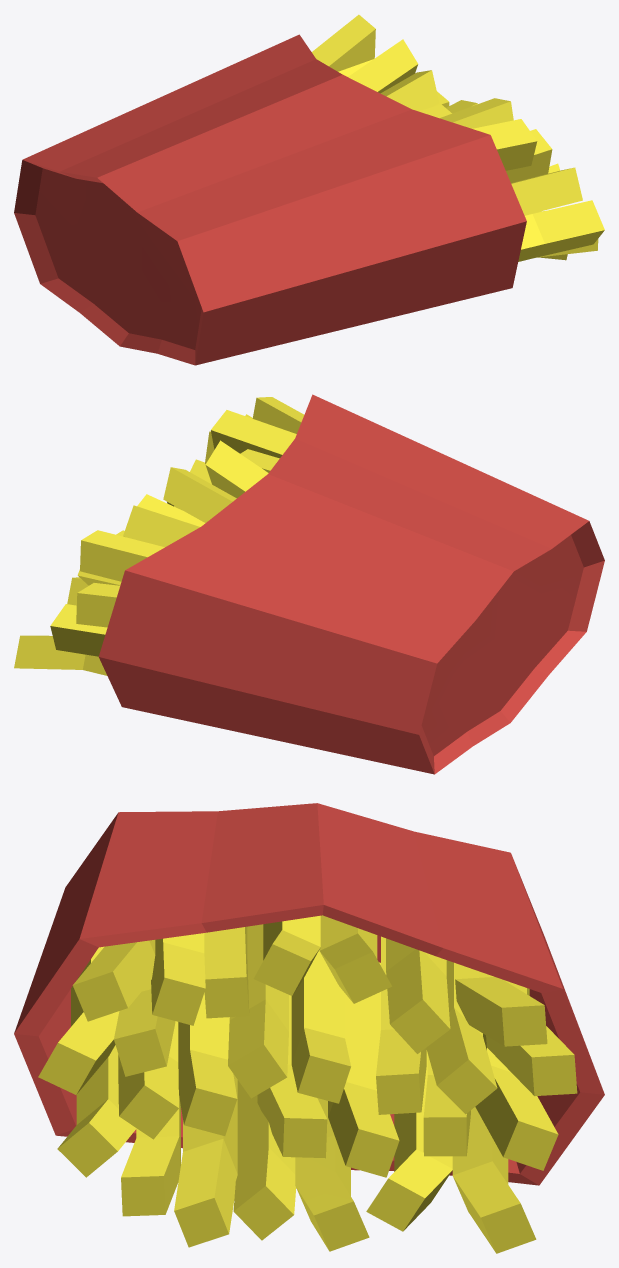
File: French_fries_01.fbx
The picture shows the model from 3 angles, top to bottom: view 1: azimuth 30°, elevation 25°; view 2: azimuth 150°, elevation 25°; view 3: azimuth 270°, elevation 25°; orthographic projection. The views are drawn at different scales.
Parts seen in each view (by area): view 1: French_fries_01; view 2: French_fries_01; view 3: French_fries_01.
Boxes of the visible parts, x1=… form: French_fries_01: x1=14, y1=14, x2=604, y2=365; French_fries_01: x1=14, y1=394, x2=604, y2=774; French_fries_01: x1=14, y1=803, x2=604, y2=1253.
Bounding box in the file's own units: 15.96 × 7.28 × 14.82.
